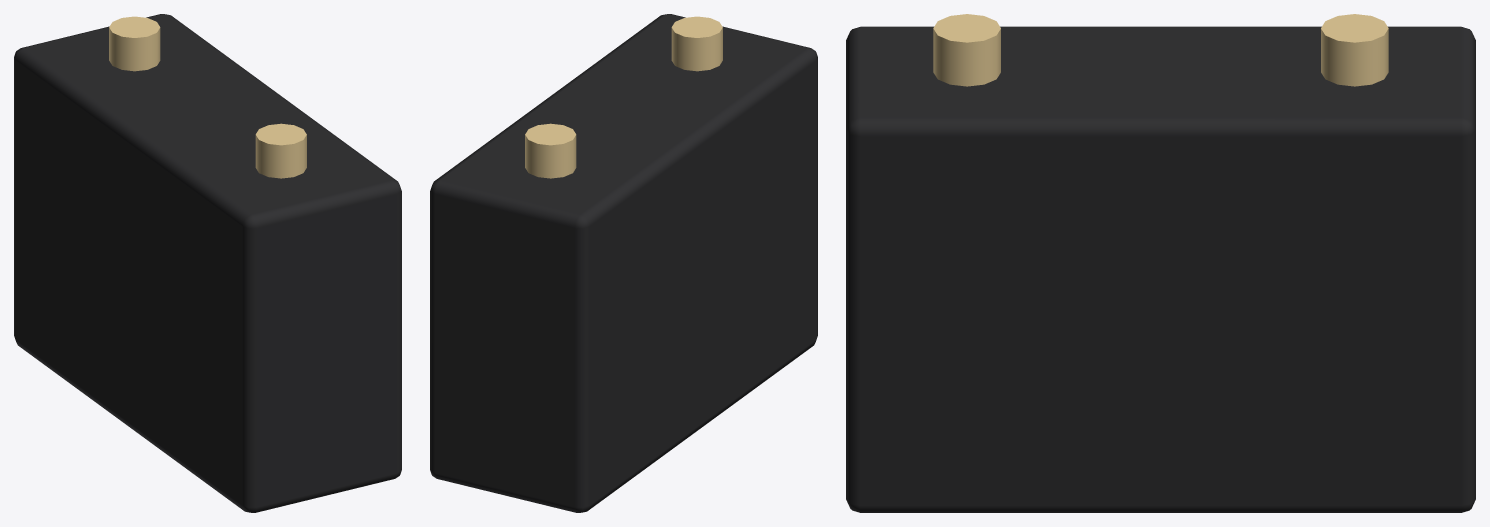
The model's file is bike_scooter__battery.glb.
The picture shows the model from 3 angles, left to right: view 1: azimuth 30°, elevation 25°; view 2: azimuth 150°, elevation 25°; view 3: azimuth 270°, elevation 25°; orthographic projection. The views are drawn at different scales.
Visible parts, largest first — view 1: electrical__battery, electrical__battery__terminals; view 2: electrical__battery, electrical__battery__terminals; view 3: electrical__battery, electrical__battery__terminals.
Boxes of the visible parts, x1,y1,x2,y2 form: electrical__battery: (14,14,401,512); electrical__battery__terminals: (109,16,306,178); electrical__battery: (430,14,817,512); electrical__battery__terminals: (525,16,722,178); electrical__battery: (846,26,1475,512); electrical__battery__terminals: (933,14,1388,86).
Bounding box in the file's own units: 5 × 10 × 13.
